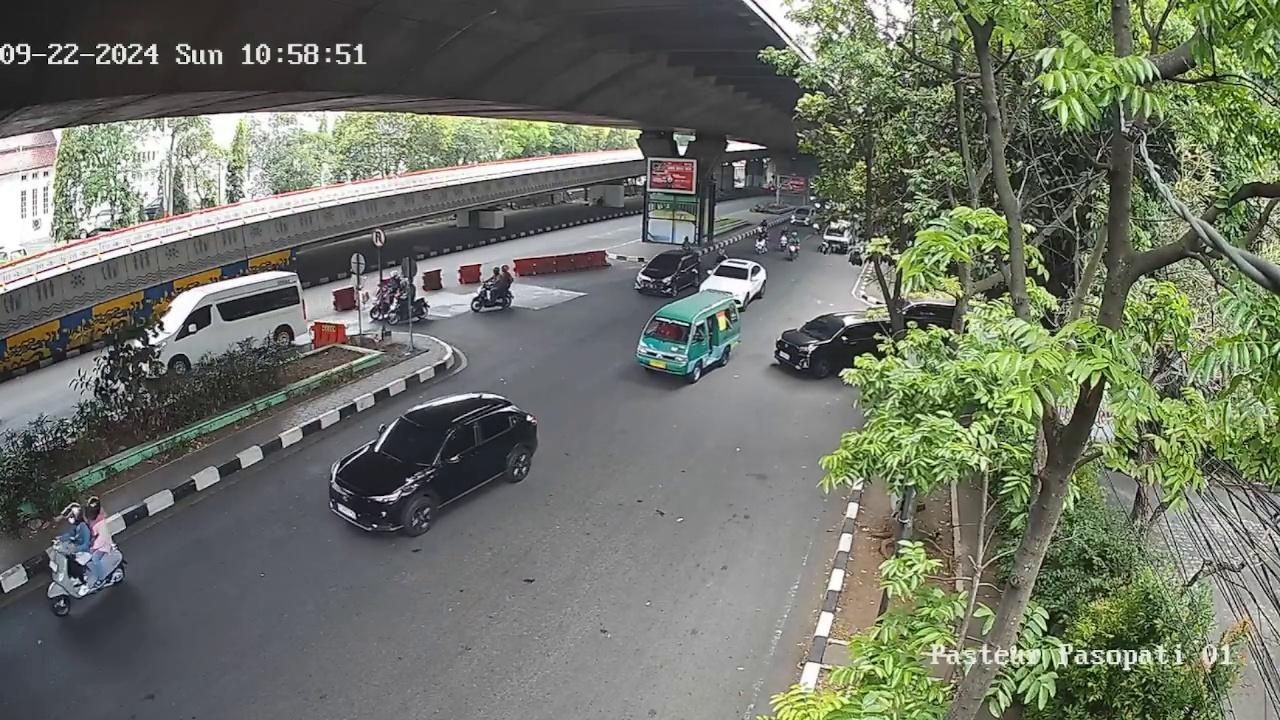tidak-pakai: (659, 322, 678, 340)
windshield: (376, 419, 443, 463), (643, 316, 689, 344), (712, 266, 749, 280)
